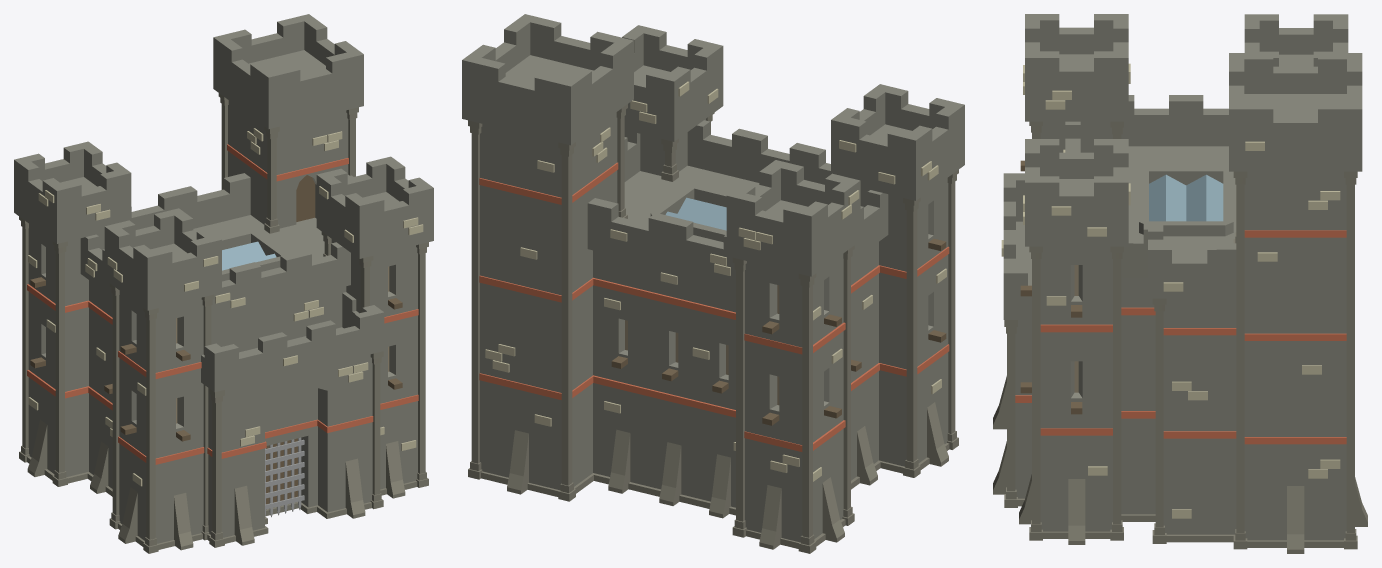
The model's file is Castle_3.fbx.
3 renders of one model, left to right at view 1: azimuth 30°, elevation 25°; view 2: azimuth 150°, elevation 25°; view 3: azimuth 270°, elevation 25°, orthographic. The views are drawn at different scales.
Visible parts, largest first — view 1: Castle_3; view 2: Castle_3; view 3: Castle_3.
Boxes of the visible parts, <box> form: Castle_3: <box>14,14,433,553</box>; Castle_3: <box>462,14,964,553</box>; Castle_3: <box>993,14,1367,553</box>.
Size of the model in its own units: 473 by 535 by 411.
Materials: 1 (1 with a texture image).
